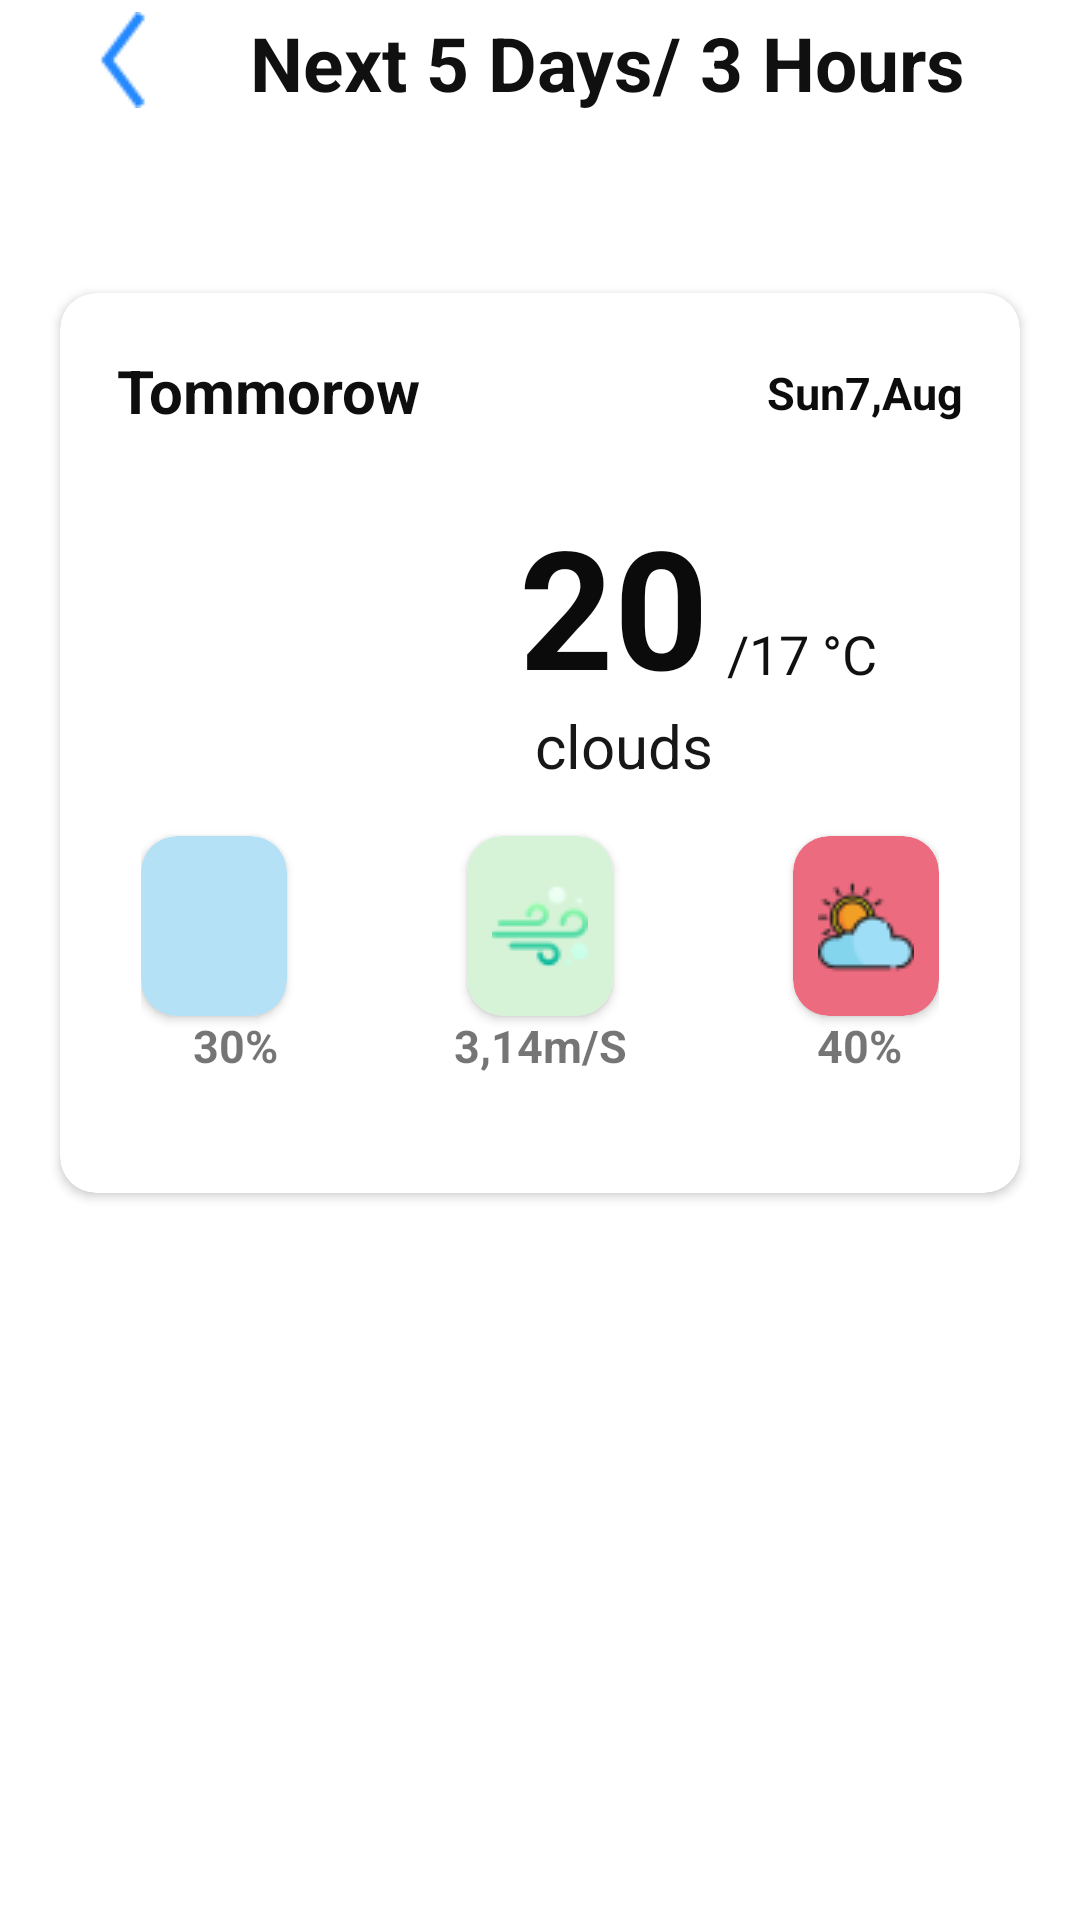

Named icons in this screenshot (1080px×1920px) and their bounding boxes, bbox(x1, y1, x2, y2):
cloudy: bbox(818, 883, 914, 971)
left: bbox(101, 12, 145, 108)
